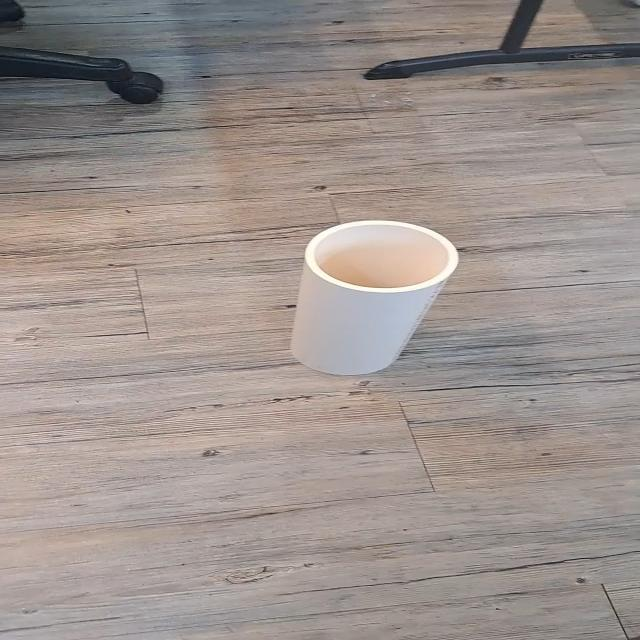CORAL: (251, 196, 483, 393)
